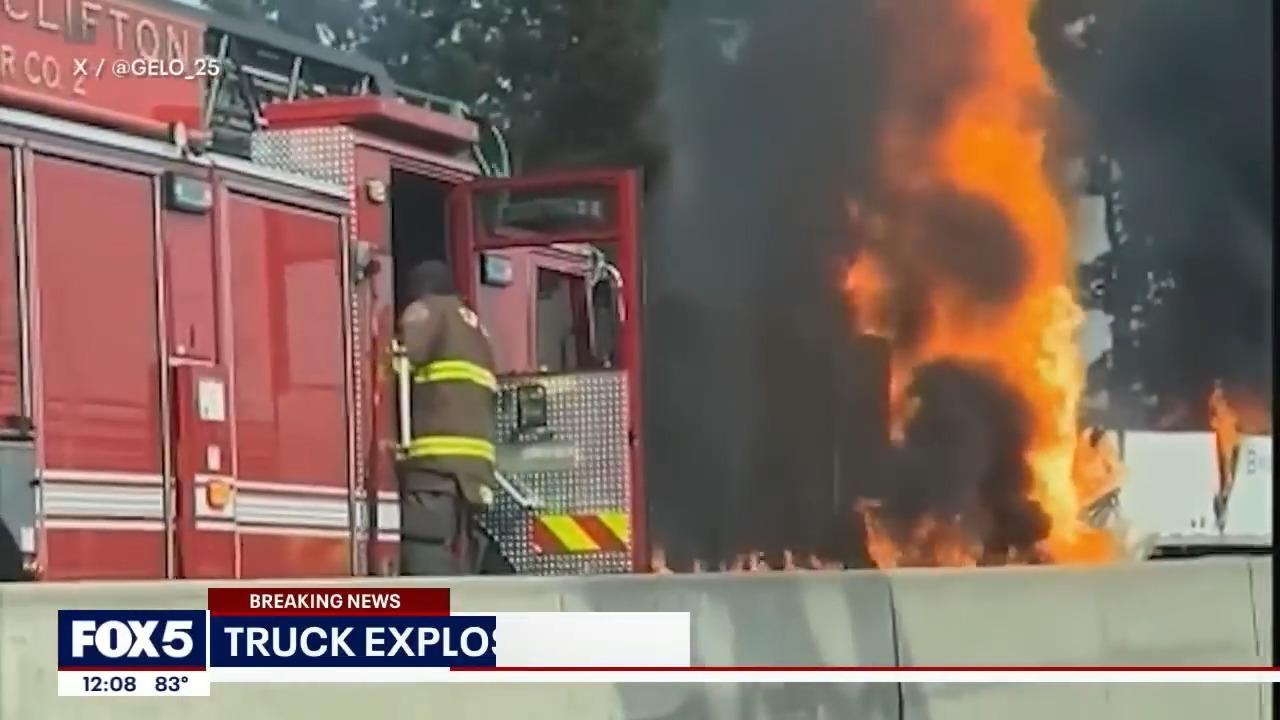fire: (843, 14, 1136, 573), (524, 504, 623, 555)
